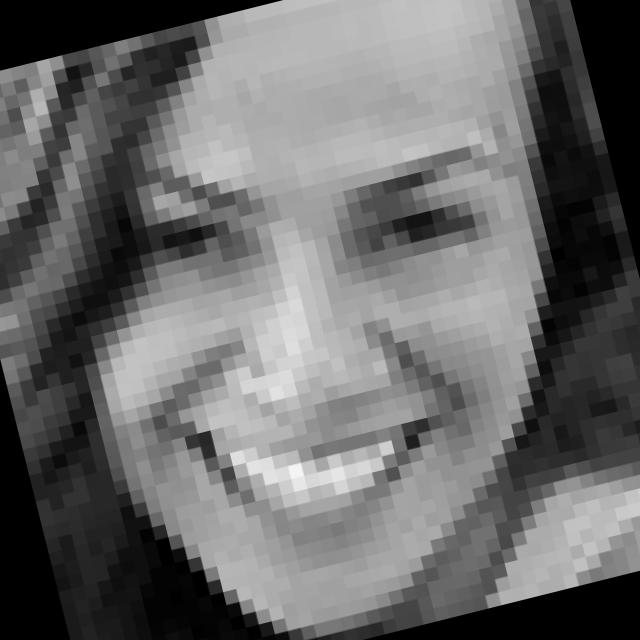happy: (100, 70, 590, 589)
